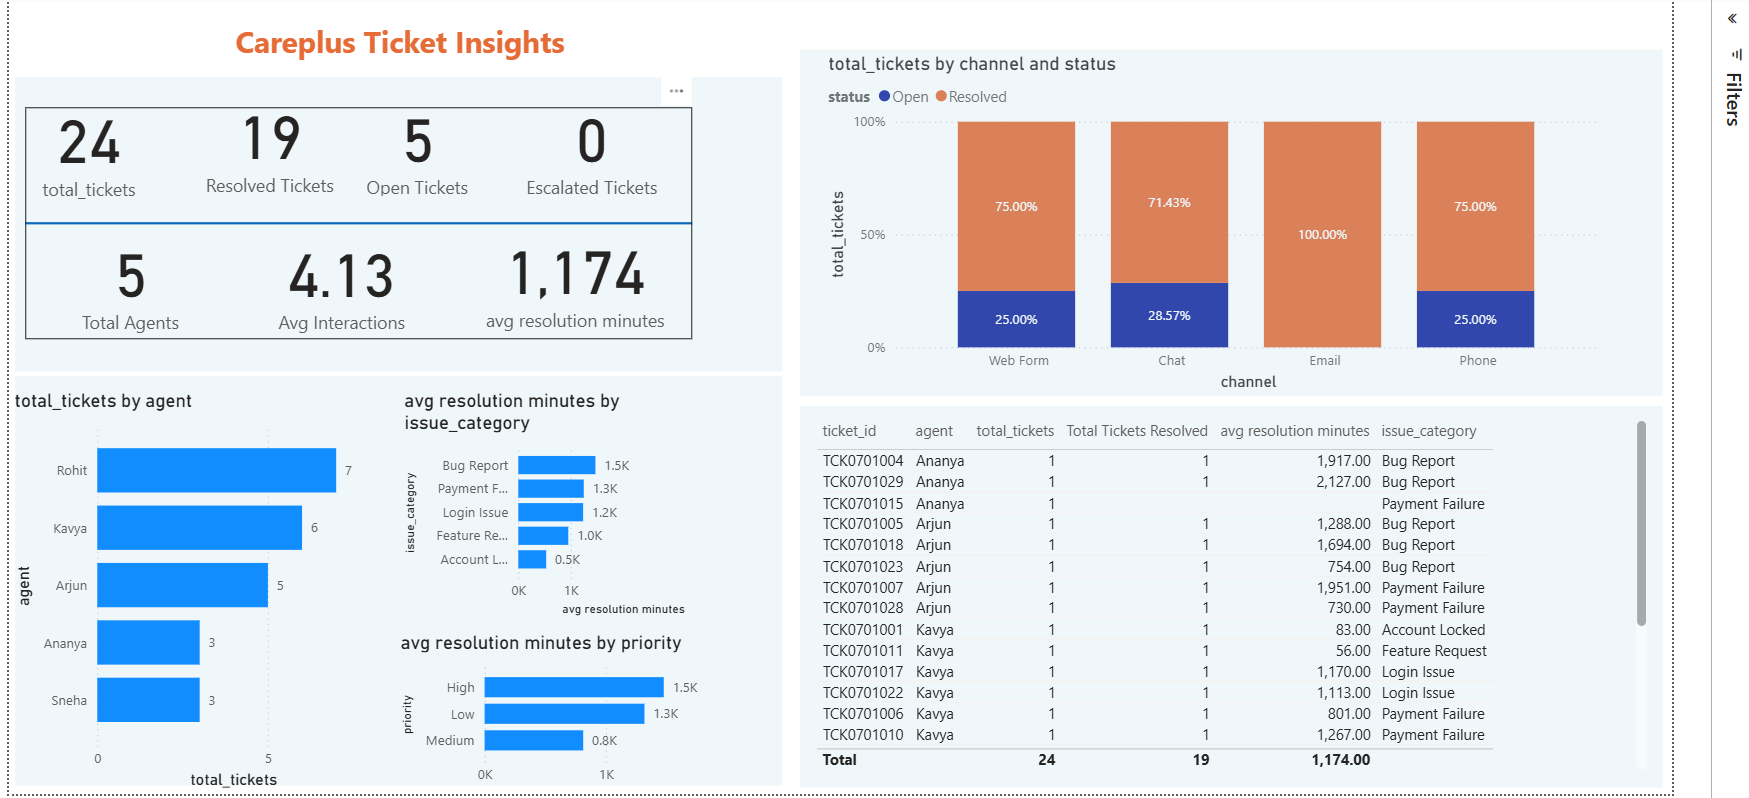

This screenshot's page, from the dashboard's own definition file:
{"tool":"powerbi","page":{"name":"support tickets","canvas":[1500,720],"ordinal":0},"visuals":[{"type":"shape","box":[713.4,369.3,777.4,344.1],"z":0},{"type":"shape","box":[5.7,343,691.7,369.3],"z":1000},{"type":"shape","box":[5.7,73.2,691.7,265.2],"z":2000},{"type":"card","fields":{"Values":["key_measures.Total Tickets Escalated"]},"box":[451.6,80,147.5,108.6],"z":3000},{"type":"card","fields":{"Values":["key_measures.Total Tickets Open"]},"box":[301.8,83.5,132.6,101.8],"z":4000},{"type":"card","fields":{"Values":["key_measures.total_tickets"]},"box":[0,71.8,144.5,126.3],"z":5000},{"type":"card","fields":{"Values":["key_measures.Total Tickets Resolved"]},"box":[155.7,71.8,159.7,119.3],"z":6000},{"type":"card","fields":{"Values":["key_measures.Total Agents"]},"box":[41.2,201.2,136.1,108.6],"z":7000},{"type":"card","fields":{"Values":["key_measures.Avg Interactions"]},"box":[232.1,201.2,136.1,108.6],"z":8000},{"type":"card","fields":{"Values":["key_measures.avg resolution minutes"]},"box":[415,198.9,192.1,110.9],"z":9000},{"type":"barChart","fields":{"Category":["support_tickets.agent"],"Y":["key_measures.total_tickets"]},"box":[0,355.6,335,364.7],"z":10000},{"type":"hundredPercentStackedColumnChart","fields":{"Category":["support_tickets.channel"],"Series":["support_tickets.status"],"Y":["key_measures.total_tickets"]},"box":[734,50.3,706.6,309.8],"z":11000},{"type":"tableEx","fields":{"Values":["support_tickets.ticket_id","support_tickets.agent","key_measures.total_tickets","key_measures.Total Tickets Resolved","key_measures.avg resolution minutes","support_tickets.issue_category"]},"box":[722.6,377.3,759.1,324.7],"z":12000},{"type":"textbox","box":[89.2,18.3,527.1,53.7],"z":13000},{"type":"barChart","fields":{"Category":["support_tickets.issue_category"],"Y":["key_measures.avg resolution minutes"]},"box":[352.1,355.6,309.8,209.2],"z":14000},{"type":"barChart","fields":{"Category":["support_tickets.priority"],"Y":["key_measures.avg resolution minutes"]},"box":[348.7,572.8,297.3,147.5],"z":15000},{"type":"shape","box":[14.9,100.6,601.4,209.2],"z":16000},{"type":"shape","box":[713.4,48,777.4,312.1],"z":17000}]}

Visuals, with their boxes on the page's 1500x720 design canvas (x1, y1, x2, y2). These are canvas units, not pixel positions in the 1749x798 screenshot, which may show the page scaled, cropped or inside an application window:
shape: (713, 369, 1491, 713)
shape: (6, 343, 697, 712)
shape: (6, 73, 697, 338)
card - key_measures.Total Tickets Escalated: (452, 80, 599, 189)
card - key_measures.Total Tickets Open: (302, 84, 434, 185)
card - key_measures.total_tickets: (0, 72, 144, 198)
card - key_measures.Total Tickets Resolved: (156, 72, 315, 191)
card - key_measures.Total Agents: (41, 201, 177, 310)
card - key_measures.Avg Interactions: (232, 201, 368, 310)
card - key_measures.avg resolution minutes: (415, 199, 607, 310)
barChart - support_tickets.agent x key_measures.total_tickets: (0, 356, 335, 720)
hundredPercentStackedColumnChart - support_tickets.channel x support_tickets.status: (734, 50, 1441, 360)
tableEx - support_tickets.ticket_id x support_tickets.agent: (723, 377, 1482, 702)
textbox: (89, 18, 616, 72)
barChart - support_tickets.issue_category x key_measures.avg resolution minutes: (352, 356, 662, 565)
barChart - support_tickets.priority x key_measures.avg resolution minutes: (349, 573, 646, 720)
shape: (15, 101, 616, 310)
shape: (713, 48, 1491, 360)
